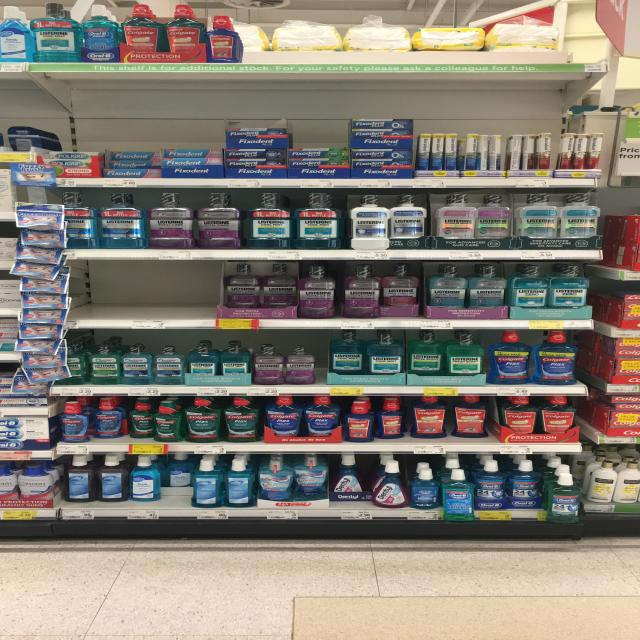unorganised: (449, 397, 491, 445), (330, 455, 368, 507), (93, 396, 128, 443), (105, 149, 163, 177), (413, 395, 445, 445), (260, 264, 297, 307), (225, 264, 259, 310), (376, 396, 407, 444), (161, 462, 191, 502), (129, 401, 155, 443), (510, 133, 536, 170), (479, 134, 501, 173)
